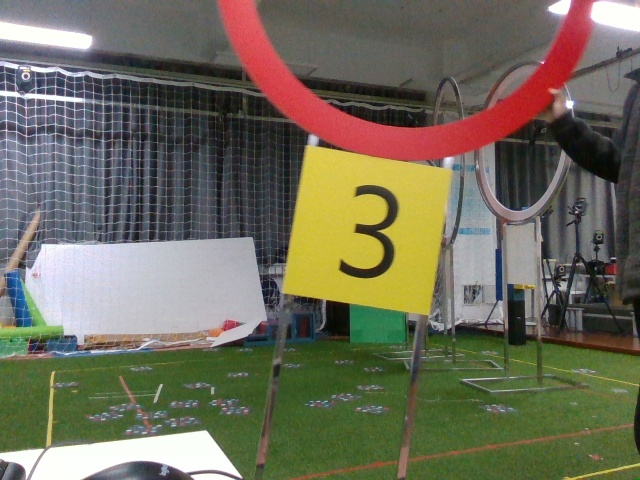target: (302, 169, 439, 298)
